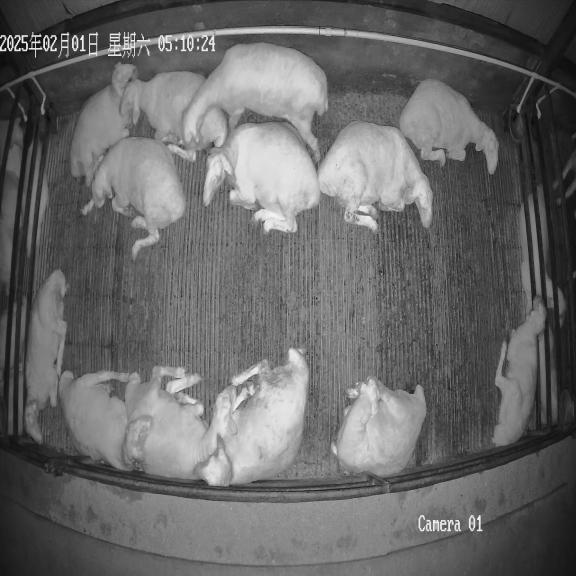lying: (196, 348, 309, 486), (125, 366, 254, 479), (203, 122, 321, 232), (318, 121, 432, 231), (82, 137, 186, 256), (331, 376, 426, 478), (399, 79, 499, 174), (125, 71, 229, 162), (59, 371, 153, 470), (70, 62, 137, 186), (492, 296, 546, 446), (25, 270, 68, 442)
stand: (182, 42, 328, 162)
